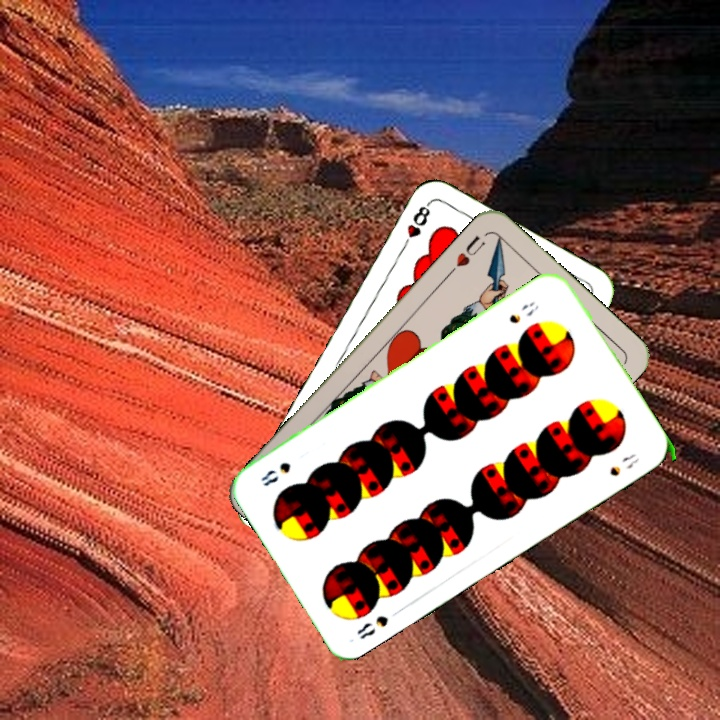H8: (397, 198, 433, 253)
HU: (445, 231, 488, 277)
S8: (504, 296, 542, 327), (353, 611, 391, 642)
